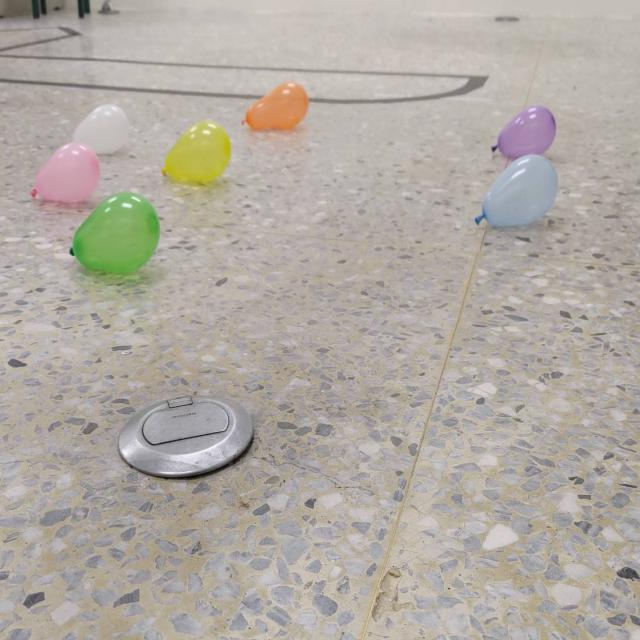other: (68, 192, 158, 272), (475, 154, 557, 228), (30, 142, 100, 204), (162, 120, 231, 182), (490, 105, 556, 157), (241, 82, 308, 130), (74, 105, 128, 154)
